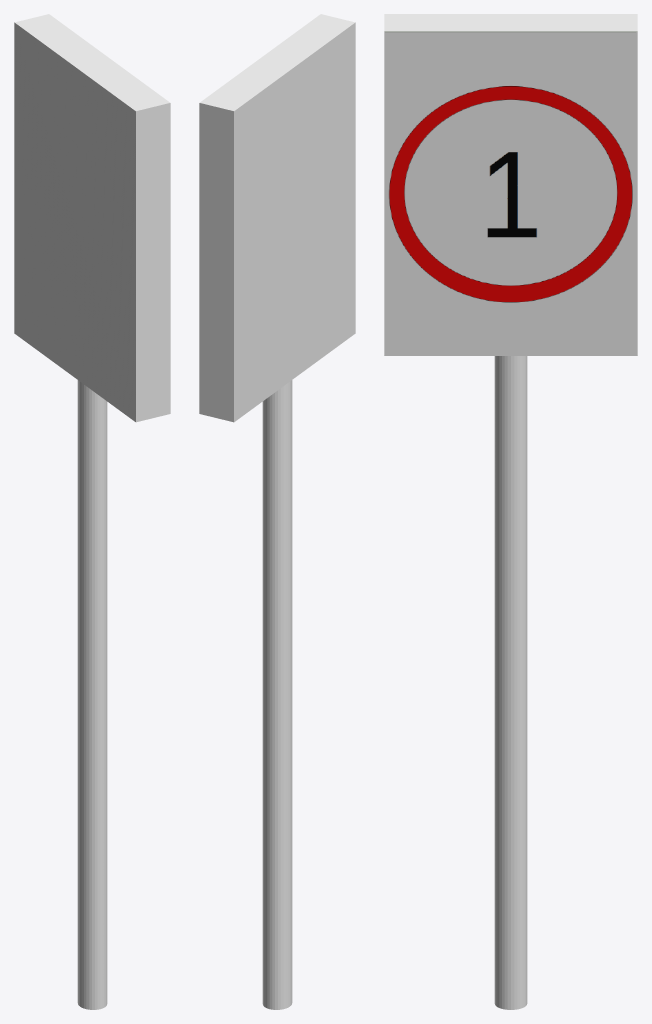
The model's file is sign1.dae.
The picture shows the model from 3 angles, left to right: view 1: azimuth 30°, elevation 25°; view 2: azimuth 150°, elevation 25°; view 3: azimuth 270°, elevation 25°; orthographic projection. The views are drawn at different scales.
Parts seen in each view (by area): view 1: Cube; view 2: Cube; view 3: Cube.
Boxes of the visible parts, x1,y1,x2,y2 form: Cube: (14, 14, 170, 1009); Cube: (199, 14, 355, 1009); Cube: (384, 14, 637, 1009).
Bounding box in the file's own units: 0.0692 × 0.42 × 1.8.
